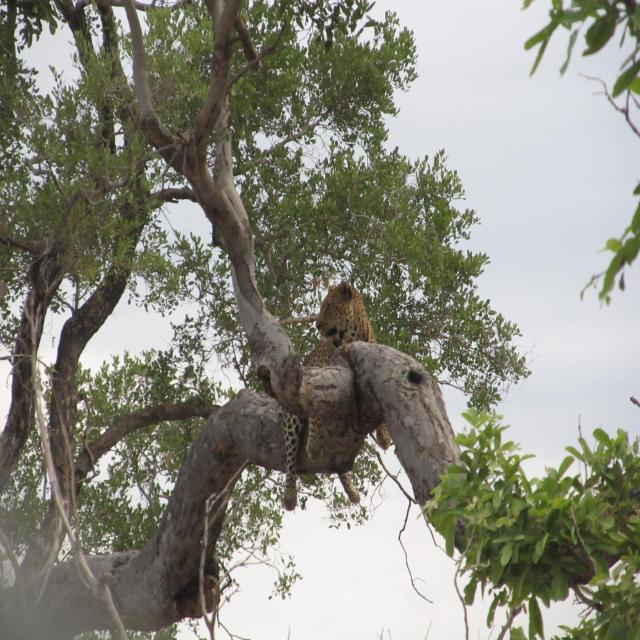Leopard: (240, 264, 421, 542)
